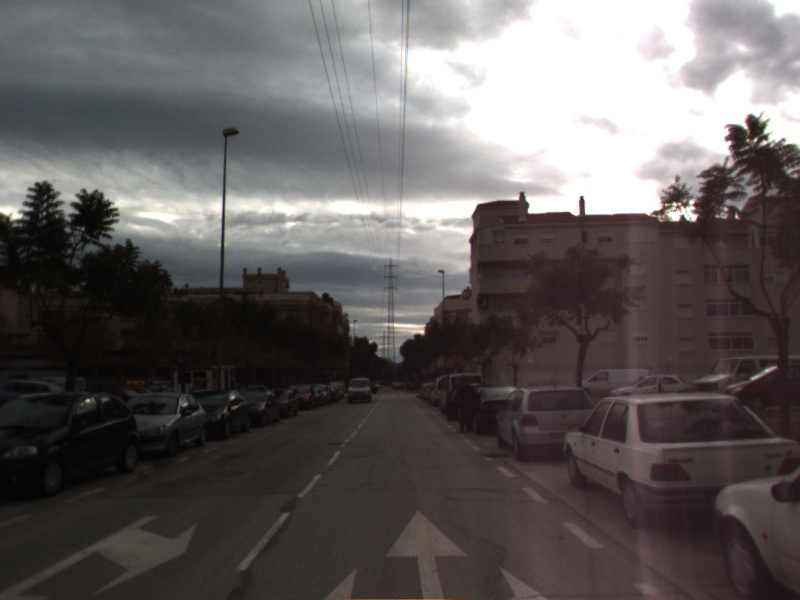STRAIGHT: (382, 506, 470, 600)
